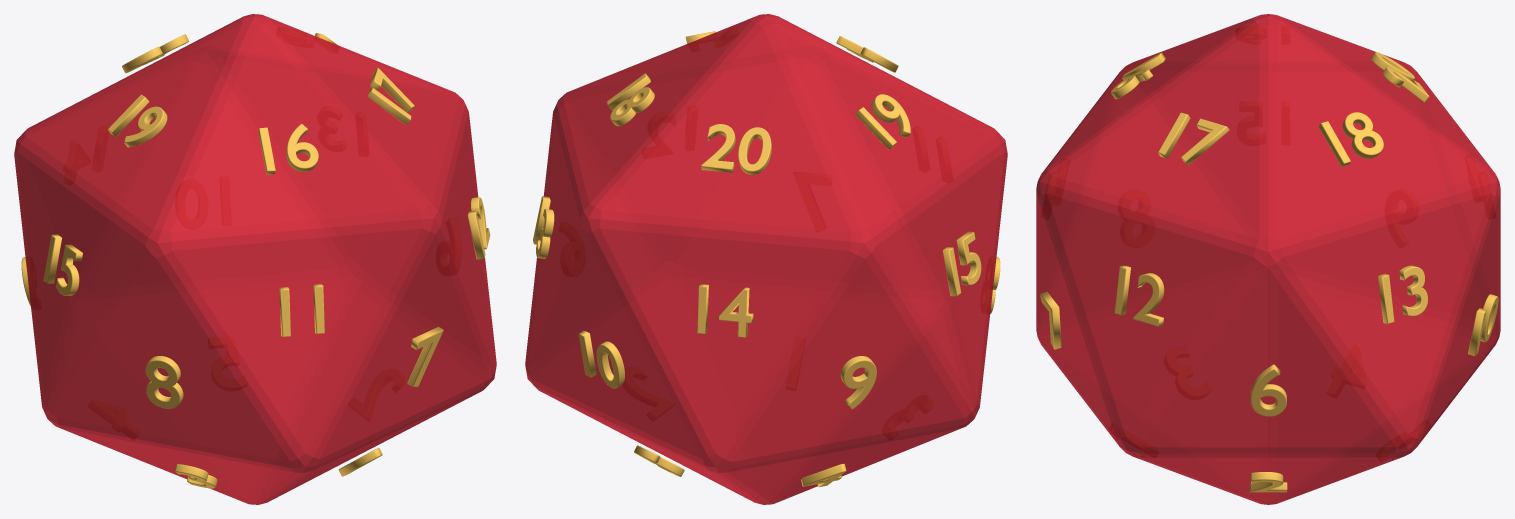
File: d20-red.glb
3 views of the same model, side by side, from view 1: azimuth 30°, elevation 25°; view 2: azimuth 150°, elevation 25°; view 3: azimuth 270°, elevation 25° (orthographic).
Visible parts, largest first — view 1: D20 ruby die, Face 19, Face 08, Face 16, Face 15, Face 17, Face 11, Face 07, Face 12, Face 20, Face 03; view 2: D20 ruby die, Face 20, Face 10, Face 19, Face 18, Face 14, Face 15, Face 09, Face 13, Face 16, Face 04, Face 05; view 3: D20 ruby die, Face 18, Face 12, Face 13, Face 17, Face 06, Face 20, Face 10, Face 16, Face 02, Face 07.
Boxes of the visible parts, x1,y1,x2,y2 form: D20 ruby die: (14, 14, 496, 504); Face 19: (107, 94, 167, 147); Face 08: (145, 356, 183, 408); Face 16: (258, 123, 318, 174); Face 15: (43, 234, 82, 295); Face 17: (367, 67, 414, 125); Face 11: (279, 284, 324, 337); Face 07: (407, 326, 443, 387); Face 12: (467, 197, 490, 259); Face 20: (122, 34, 188, 73); Face 03: (175, 464, 217, 488); D20 ruby die: (525, 14, 1007, 504); Face 20: (701, 124, 771, 174); Face 10: (578, 330, 624, 388); Face 19: (855, 94, 910, 149); Face 18: (607, 73, 654, 126); Face 14: (697, 284, 753, 337); Face 15: (942, 231, 981, 296); Face 09: (840, 356, 876, 409); Face 13: (533, 196, 554, 258); Face 16: (836, 36, 898, 72); Face 04: (801, 463, 846, 487); Face 05: (634, 445, 684, 476); D20 ruby die: (1036, 14, 1500, 504); Face 18: (1318, 112, 1383, 167); Face 12: (1114, 265, 1164, 326); Face 13: (1378, 265, 1427, 324); Face 17: (1158, 112, 1229, 165); Face 06: (1250, 364, 1286, 416); Face 20: (1371, 52, 1429, 102); Face 10: (1468, 294, 1498, 356); Face 16: (1111, 52, 1165, 99); Face 02: (1249, 472, 1287, 492); Face 07: (1040, 291, 1061, 349).
Size of the model in its own units: 2.73 by 3.02 by 2.61.
